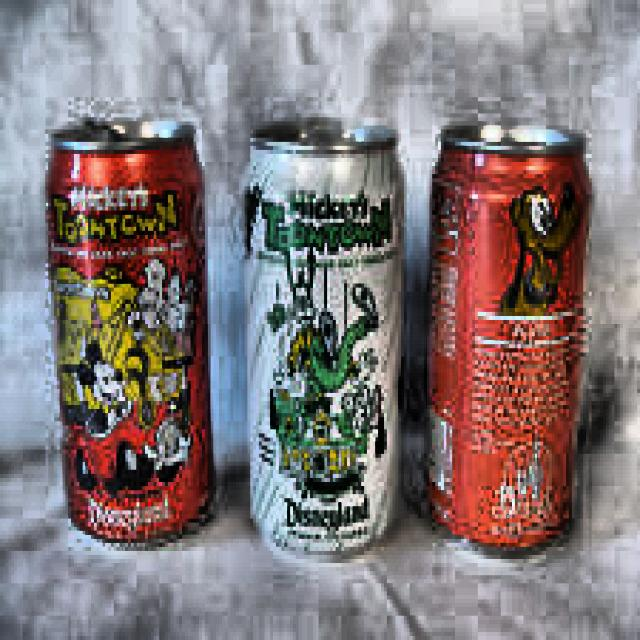Cans: (40, 104, 227, 556), (235, 110, 410, 576), (428, 100, 592, 564)
